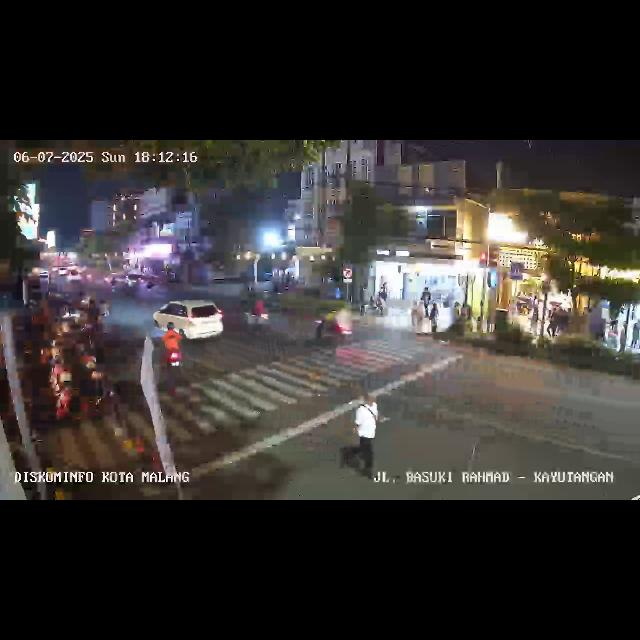car: (152, 299, 224, 345), (110, 272, 156, 294)
motorcycle: (311, 309, 354, 351), (157, 324, 183, 374), (242, 295, 270, 335)
person: (341, 383, 384, 481), (428, 301, 438, 333), (410, 300, 420, 330), (545, 310, 555, 340), (530, 306, 538, 338), (450, 302, 460, 326), (632, 319, 640, 349), (619, 322, 627, 352)
